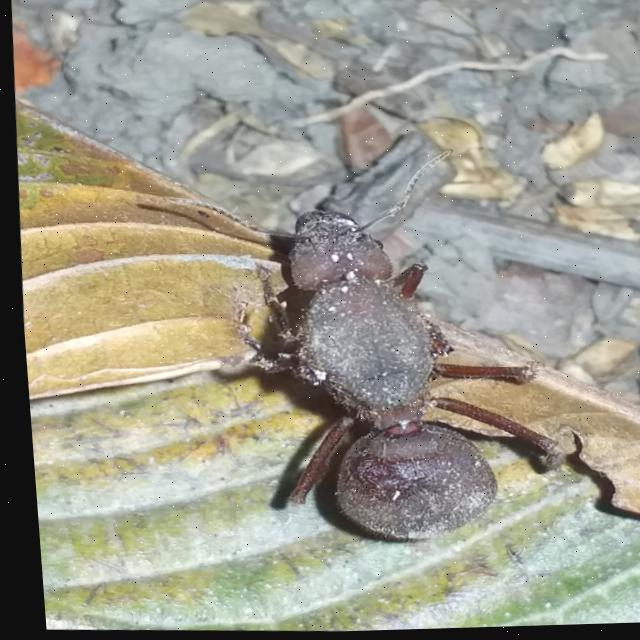Alive-Female-Dealate: (143, 137, 575, 556)
